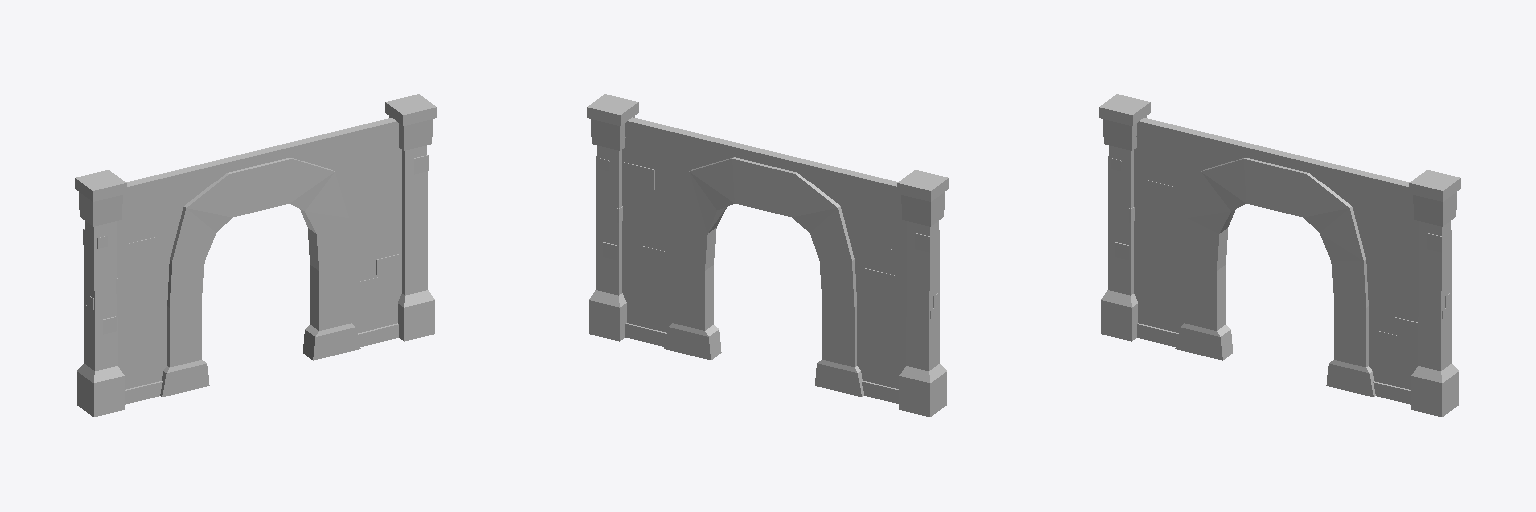
The model's file is doorwaytest.obj.
The picture shows the model from 3 angles: view 1: azimuth 30°, elevation 25°; view 2: azimuth 150°, elevation 25°; view 3: azimuth 330°, elevation 25°; orthographic projection.
Parts seen in each view (by area): view 1: Pillar2; view 2: Pillar2; view 3: Pillar2.
Part boxes in pixels (bbox=[...]): Pillar2: bbox=[75, 94, 436, 416]; Pillar2: bbox=[587, 94, 948, 416]; Pillar2: bbox=[1099, 94, 1460, 416].
Bounding box in the file's own units: 3.32 × 2.09 × 0.3018.